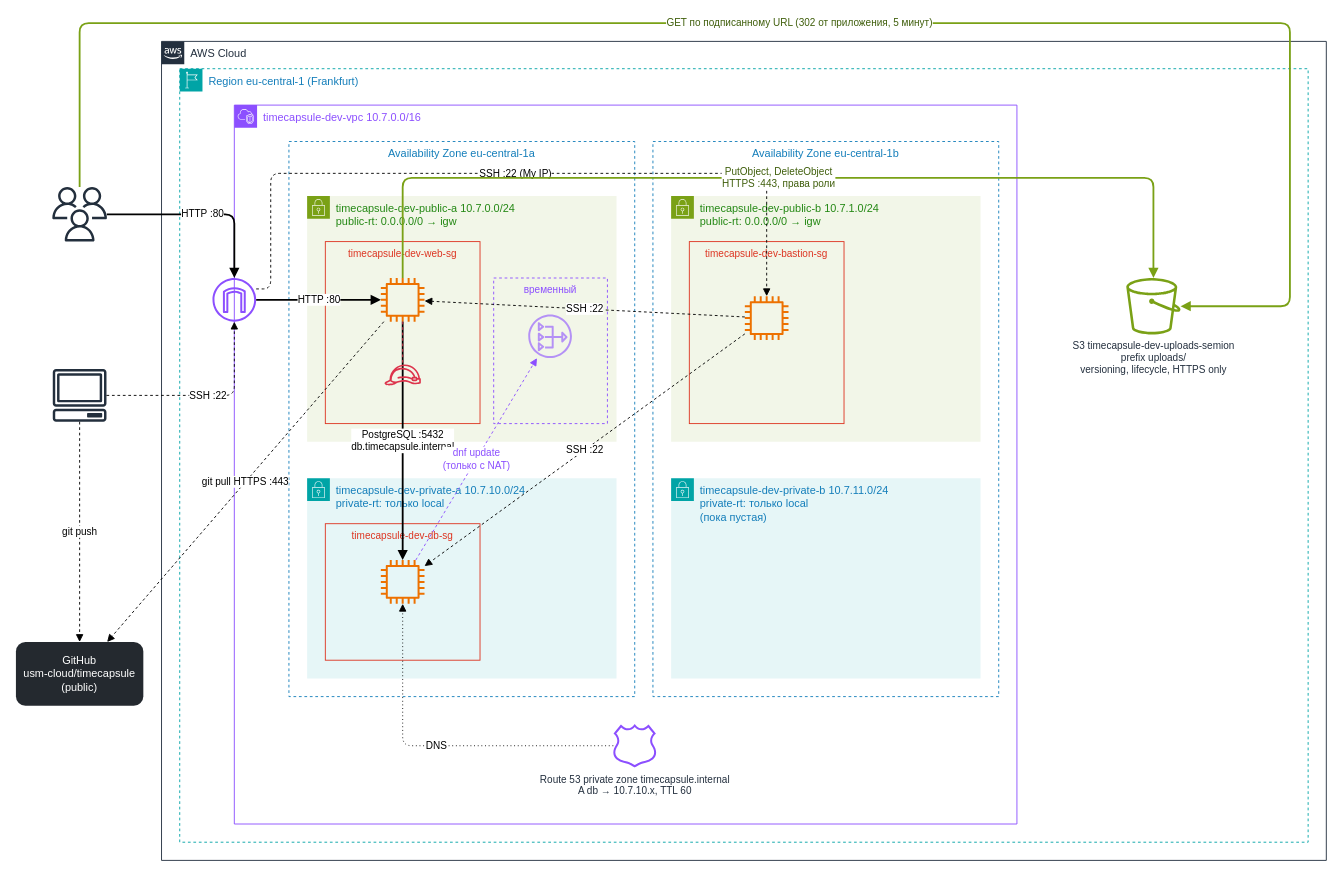
This 1342x876 diagram has some shape labels left out. Here are the shapes that lost their labels. From the top down, the centre of each, then its label:
At [79,214]: "Users".
At [234,299]: "timecapsule-dev-igw".
At [402,299]: "timecapsule-dev-app EIP timecapsule-dev-app-eip nginx, PHP-FPM".
At [766,317]: "timecapsule-dev-bastion".
At [549,336]: "timecapsule-dev-nat-a + timecapsule-dev-nat-a-eip".
At [402,374]: "timecapsule-dev-app-role policy timecapsule-dev-app-s3".
At [79,395]: "My computer ~/.ssh/config".
At [402,581]: "timecapsule-dev-db PostgreSQL 16, 10.7.10.x".
